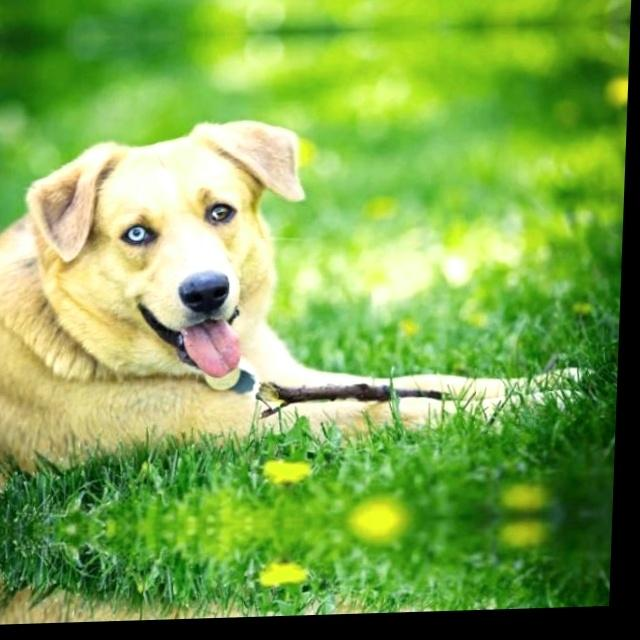dog: (0, 71, 562, 534), (0, 514, 545, 628)
